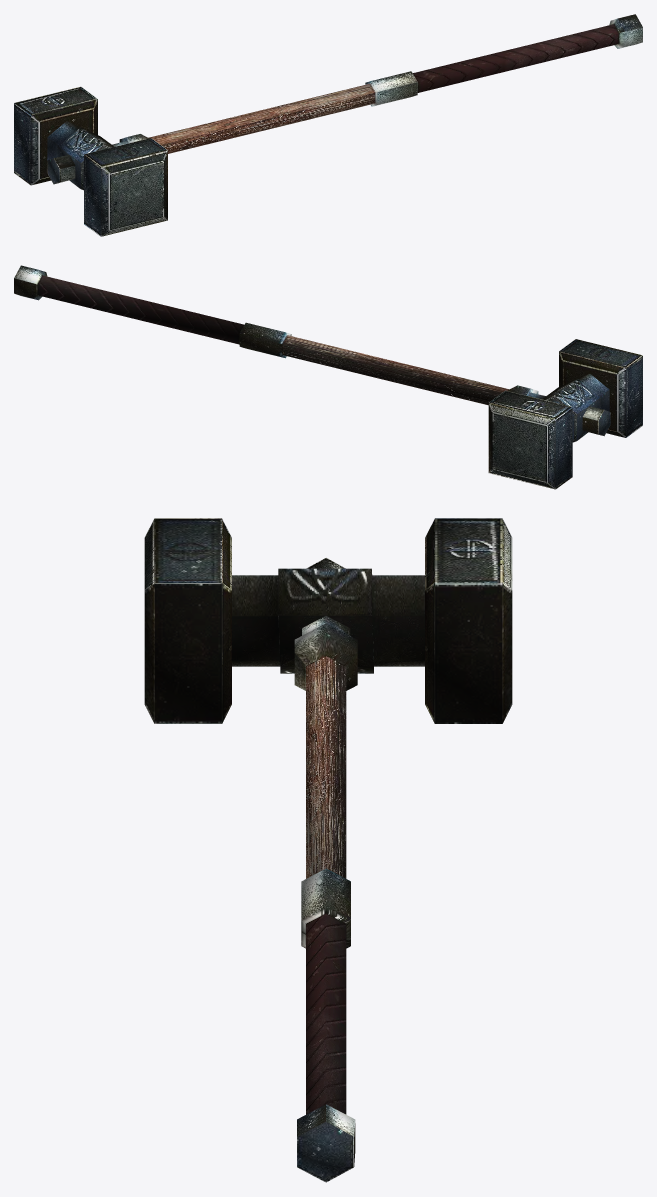
Rendered from KM_ITMW_2H_HAMMER_02.glb.
3 renders of one model, top to bottom at view 1: azimuth 30°, elevation 25°; view 2: azimuth 150°, elevation 25°; view 3: azimuth 270°, elevation 25°, orthographic. The views are drawn at different scales.
Visible parts, largest first — view 1: Mesh; view 2: Mesh; view 3: Mesh.
Boxes of the visible parts, x1,y1,x2,y2 form: Mesh: (14,14,642,236); Mesh: (14,265,642,489); Mesh: (144,518,512,1182).
Size of the model in its own units: 1.11 by 0.1282 by 0.3046.
Materials: 1 (1 with a texture image).
